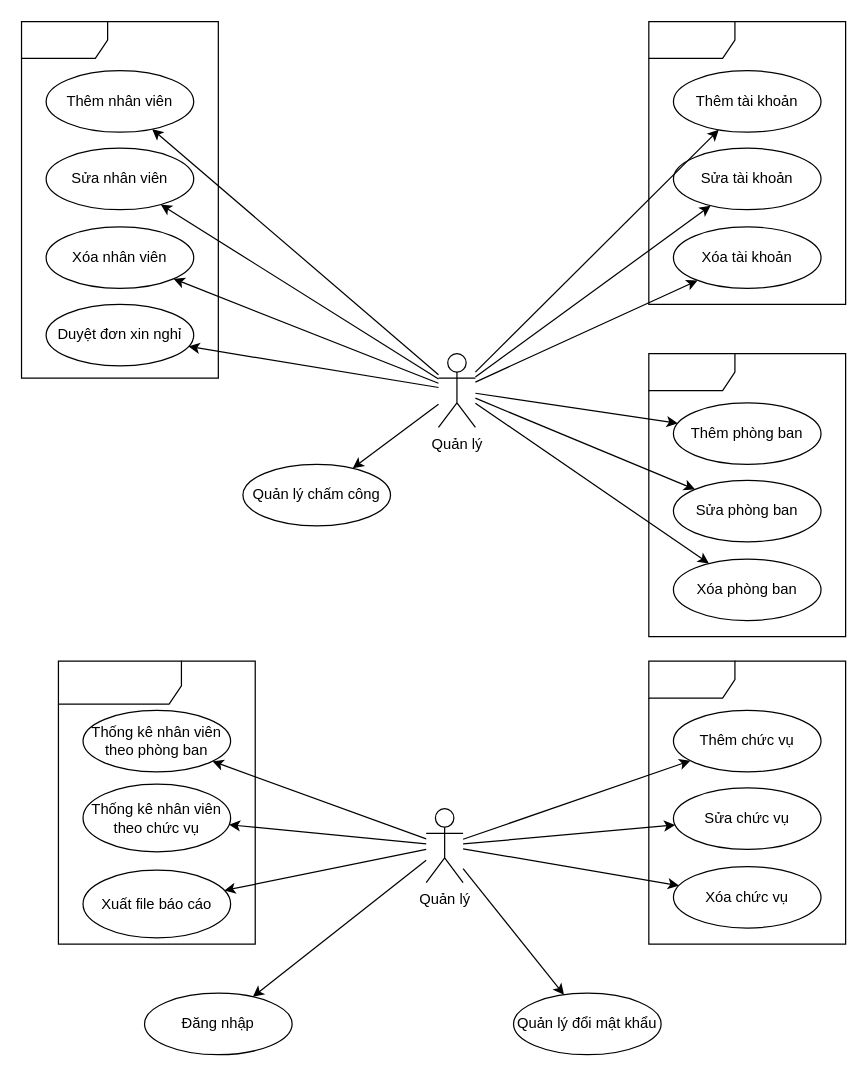
Some shapes in this 867 by 1076 pixel diagram are drawn without their labels. The box of each missing label's shape, as (x1, y1, x2, y2) in pixels:
Báo cáo thống kê: (57, 660, 255, 944)
Quản lý chức vụ: (648, 660, 846, 944)
Quản lý loại tài khoản: (648, 20, 846, 304)
Quản lý nhân viên: (20, 20, 218, 378)
Quản lý phòng ban: (648, 352, 846, 637)
